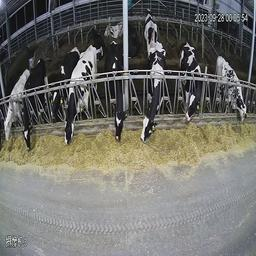cow: (64, 46, 98, 147), (138, 43, 167, 144), (106, 44, 132, 143), (22, 57, 49, 152), (215, 49, 247, 123), (177, 39, 205, 123), (5, 64, 22, 152), (52, 41, 71, 112), (142, 6, 159, 45), (88, 24, 105, 61), (105, 20, 123, 42)
